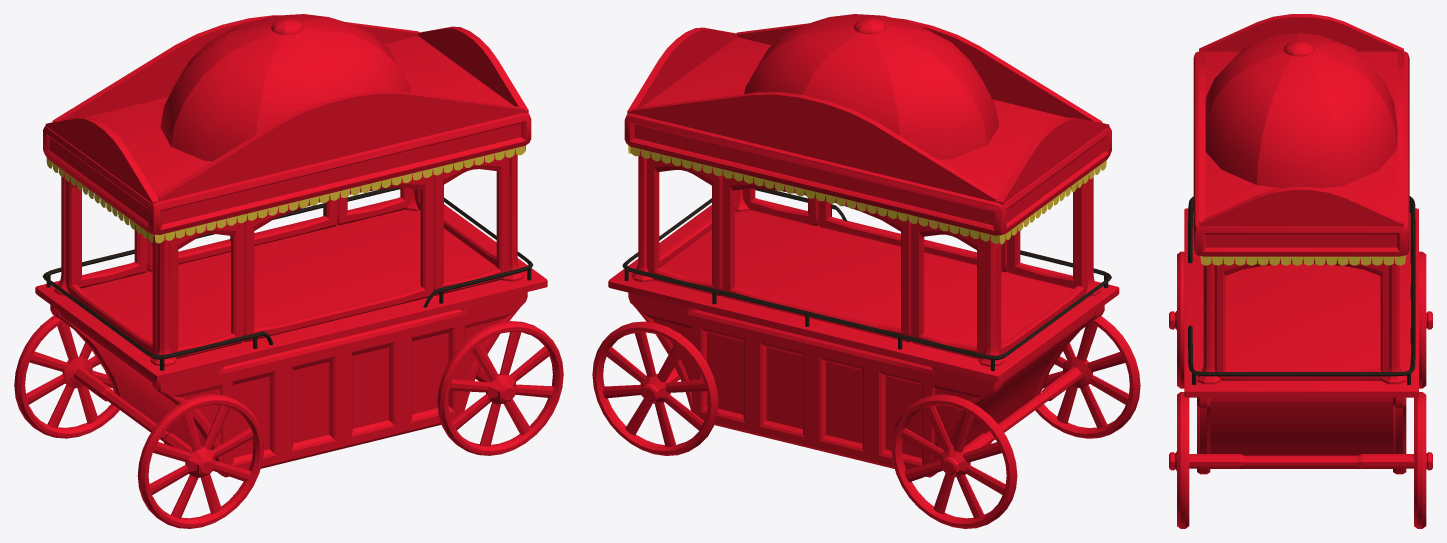
Rendered from chariot.fbx.
3 views of the same model, side by side, from view 1: azimuth 30°, elevation 25°; view 2: azimuth 150°, elevation 25°; view 3: azimuth 270°, elevation 25° (orthographic). The views are drawn at different scales.
Parts seen in each view (by area): view 1: Cube.198, Cube.194, Cube.208, Cube.207, Sphere.008, Cube.211, Cylinder.030, Cube.206, Cube.213, Cube.205, Cube.212, Cube.209 (+1 smaller); view 2: Cube.198, Cube.194, Cube.208, Cube.207, Sphere.008, Cylinder.030, Cube.211, Cube.206, Cube.205, Cube.213, Cube.212, Cube.209 (+1 smaller); view 3: Cube.198, Sphere.008, Cube.207, Cube.208, Cube.212, Cylinder.030, Cube.211, Cube.213, Cube.206, Cube.205, Cube.210, Cube.194.
Part boxes in pixels (left/top/right/bottom): Cube.198: left=35, top=199, right=547, bottom=381; Cube.194: left=50, top=292, right=527, bottom=477; Cube.208: left=45, top=15, right=528, bottom=204; Cube.207: left=43, top=36, right=531, bottom=234; Sphere.008: left=160, top=14, right=411, bottom=161; Cube.211: left=66, top=151, right=508, bottom=358; Cylinder.030: left=14, top=315, right=563, bottom=528; Cube.206: left=54, top=149, right=524, bottom=366; Cube.213: left=62, top=356, right=515, bottom=478; Cube.205: left=42, top=188, right=533, bottom=370; Cube.212: left=60, top=312, right=204, bottom=446; Cube.209: left=52, top=146, right=525, bottom=243; Cube.198: left=608, top=199, right=1119, bottom=382; Cube.194: left=628, top=292, right=1104, bottom=477; Cube.208: left=627, top=17, right=1109, bottom=205; Cube.207: left=624, top=37, right=1111, bottom=235; Sphere.008: left=744, top=14, right=999, bottom=160; Cylinder.030: left=592, top=316, right=1140, bottom=528; Cube.211: left=647, top=152, right=1087, bottom=359; Cube.206: left=631, top=150, right=1100, bottom=366; Cube.205: left=622, top=188, right=1111, bottom=371; Cube.213: left=640, top=356, right=1092, bottom=477; Cube.212: left=950, top=312, right=1094, bottom=446; Cube.209: left=630, top=146, right=1100, bottom=243; Cube.198: left=1184, top=208, right=1418, bottom=397; Sphere.008: left=1205, top=32, right=1397, bottom=188; Cube.207: left=1193, top=51, right=1409, bottom=256; Cube.208: left=1199, top=14, right=1404, bottom=227; Cube.212: left=1210, top=397, right=1392, bottom=468; Cylinder.030: left=1177, top=251, right=1426, bottom=528; Cube.211: left=1214, top=257, right=1389, bottom=380; Cube.213: left=1169, top=311, right=1432, bottom=470; Cube.206: left=1197, top=258, right=1405, bottom=384; Cube.205: left=1188, top=196, right=1415, bottom=384; Cube.210: left=1200, top=255, right=1406, bottom=265; Cube.194: left=1197, top=397, right=1406, bottom=474.
Size of the model in its own units: 498 by 478 by 280.
